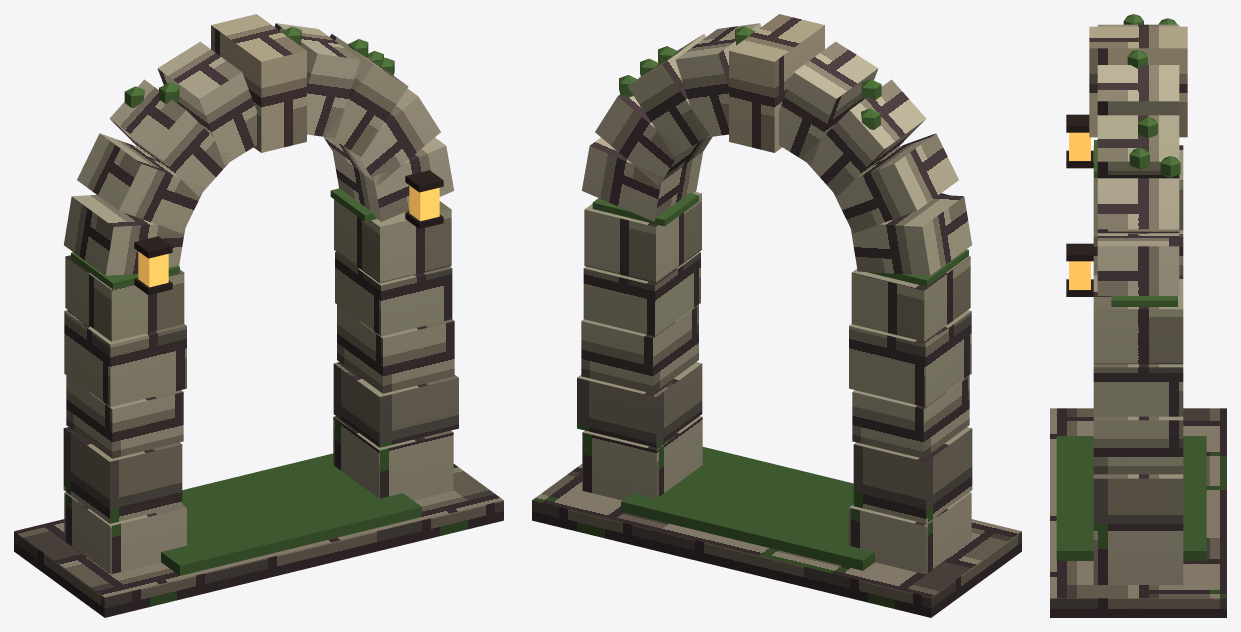
File: portal_arch.glb
The picture shows the model from 3 angles, left to right: view 1: azimuth 30°, elevation 25°; view 2: azimuth 150°, elevation 25°; view 3: azimuth 270°, elevation 25°; orthographic projection. The views are drawn at different scales.
Visible parts, largest first — view 1: portal_arch; view 2: portal_arch; view 3: portal_arch.
Boxes of the visible parts, <box> form: portal_arch: <box>14,14,503,617</box>; portal_arch: <box>532,14,1021,617</box>; portal_arch: <box>1050,14,1226,617</box>.
Bounding box in the file's own units: 3.3 × 3.96 × 1.3.
3 materials, 1 textured.
